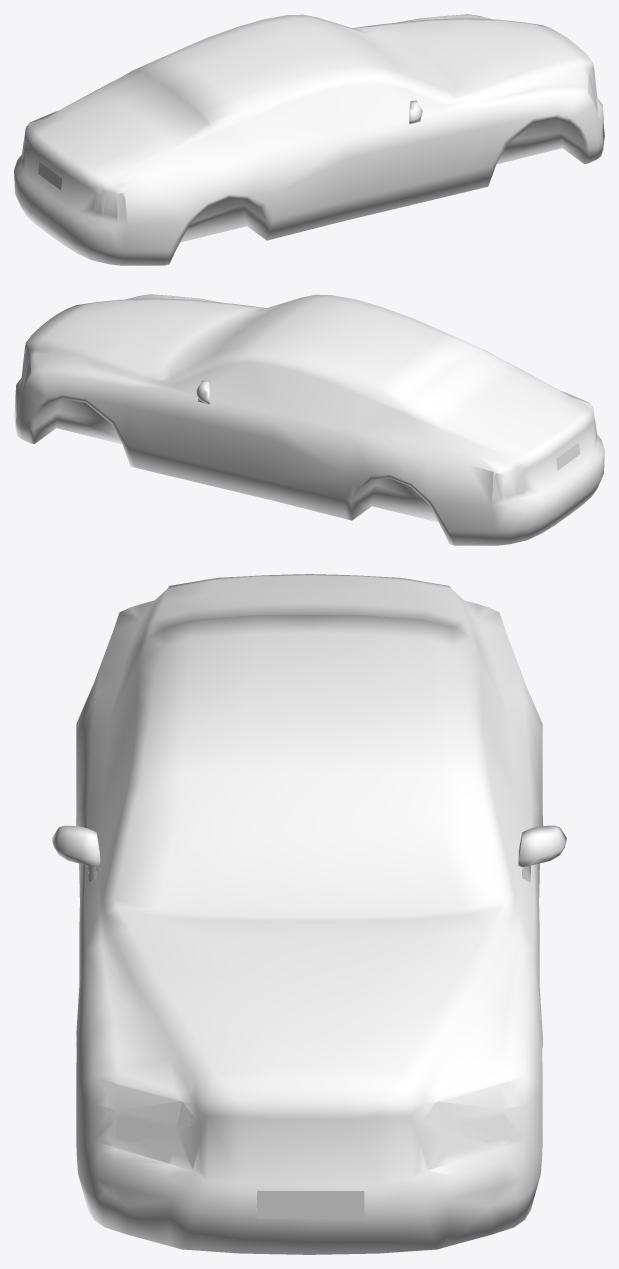
3 renders of one model, top to bottom at view 1: azimuth 30°, elevation 25°; view 2: azimuth 150°, elevation 25°; view 3: azimuth 270°, elevation 25°, orthographic. The views are drawn at different scales.
Parts seen in each view (by area): view 1: r_cars, light; view 2: r_cars, light; view 3: r_cars, light.
Part boxes in pixels (x1,y1,x2,y2): r_cars: (14,14,604,265); light: (21,74,597,216); r_cars: (14,294,604,545); light: (21,354,596,497); r_cars: (52,574,566,1254); light: (107,1082,512,1170).
Size of the model in its own units: 2422 by 586 by 1009.
